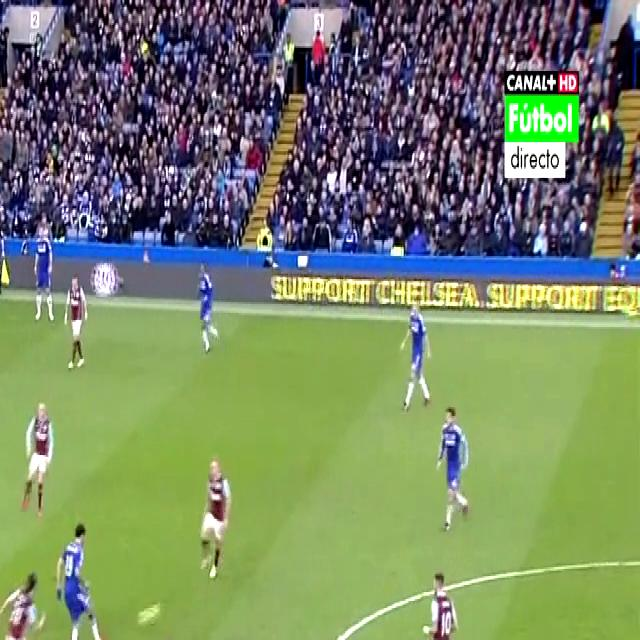ball: (137, 590, 159, 633)
referee: (0, 204, 7, 304), (153, 631, 195, 640)
soccer-player: (50, 510, 113, 640), (433, 397, 478, 537), (192, 446, 232, 589), (18, 391, 57, 524), (396, 284, 433, 411), (416, 553, 465, 640), (63, 264, 97, 378), (192, 252, 224, 362), (31, 215, 58, 326), (0, 567, 41, 640)
